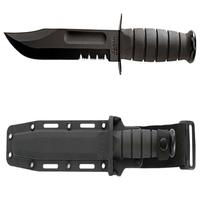knife: (1, 16, 197, 75)
